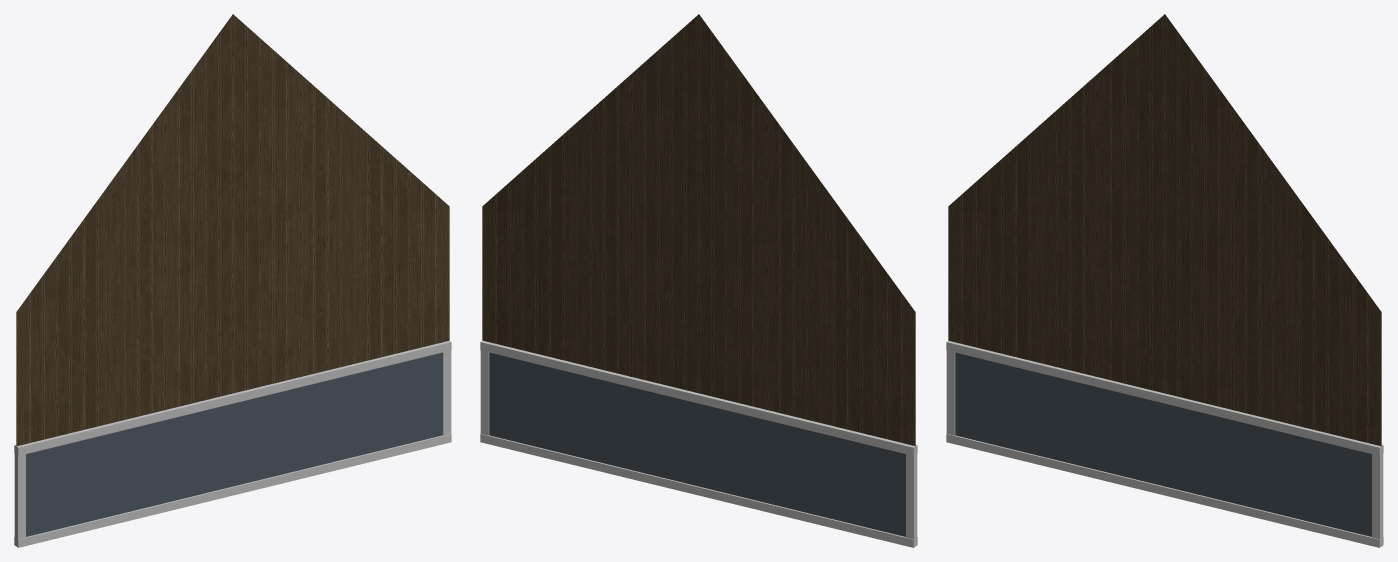
The model's file is SM_WallPiece_02.fbx.
The picture shows the model from 3 angles, left to right: view 1: azimuth 30°, elevation 25°; view 2: azimuth 150°, elevation 25°; view 3: azimuth 330°, elevation 25°; orthographic projection.
Parts seen in each view (by area): view 1: polySurface3617; view 2: polySurface3617; view 3: polySurface3617.
Boxes of the visible parts, x1,y1,x2,y2 form: polySurface3617: (14,14,451,547); polySurface3617: (480,14,917,547); polySurface3617: (946,14,1383,547).
Size of the model in its own units: 860 by 910 by 13.34.
